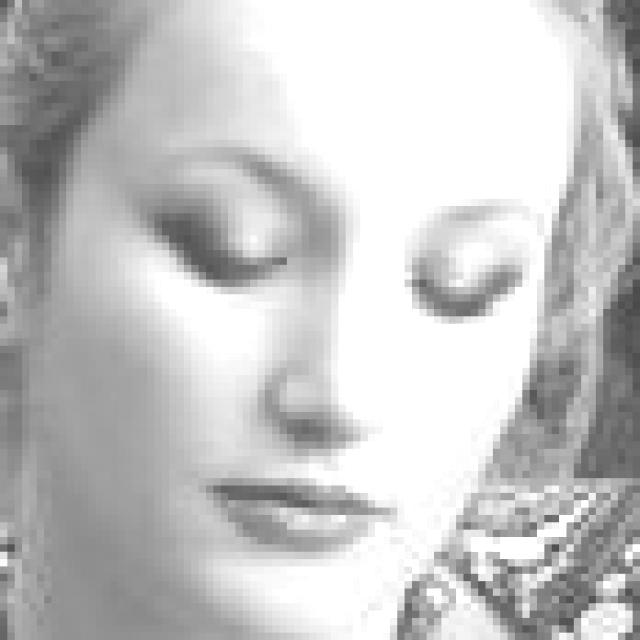real: (30, 0, 576, 640), (118, 170, 532, 336)
